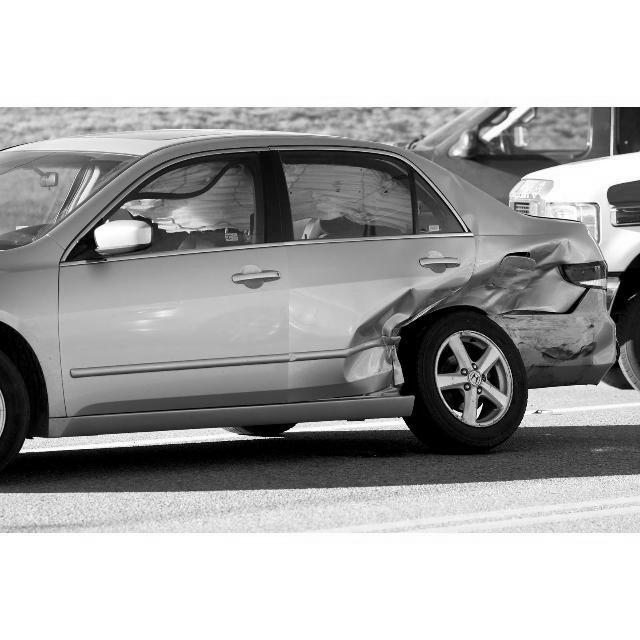doorouter-dent: (301, 235, 438, 399)
quaterpanel-dent: (479, 229, 593, 315)
rear-bumper-dent: (507, 305, 617, 383)
